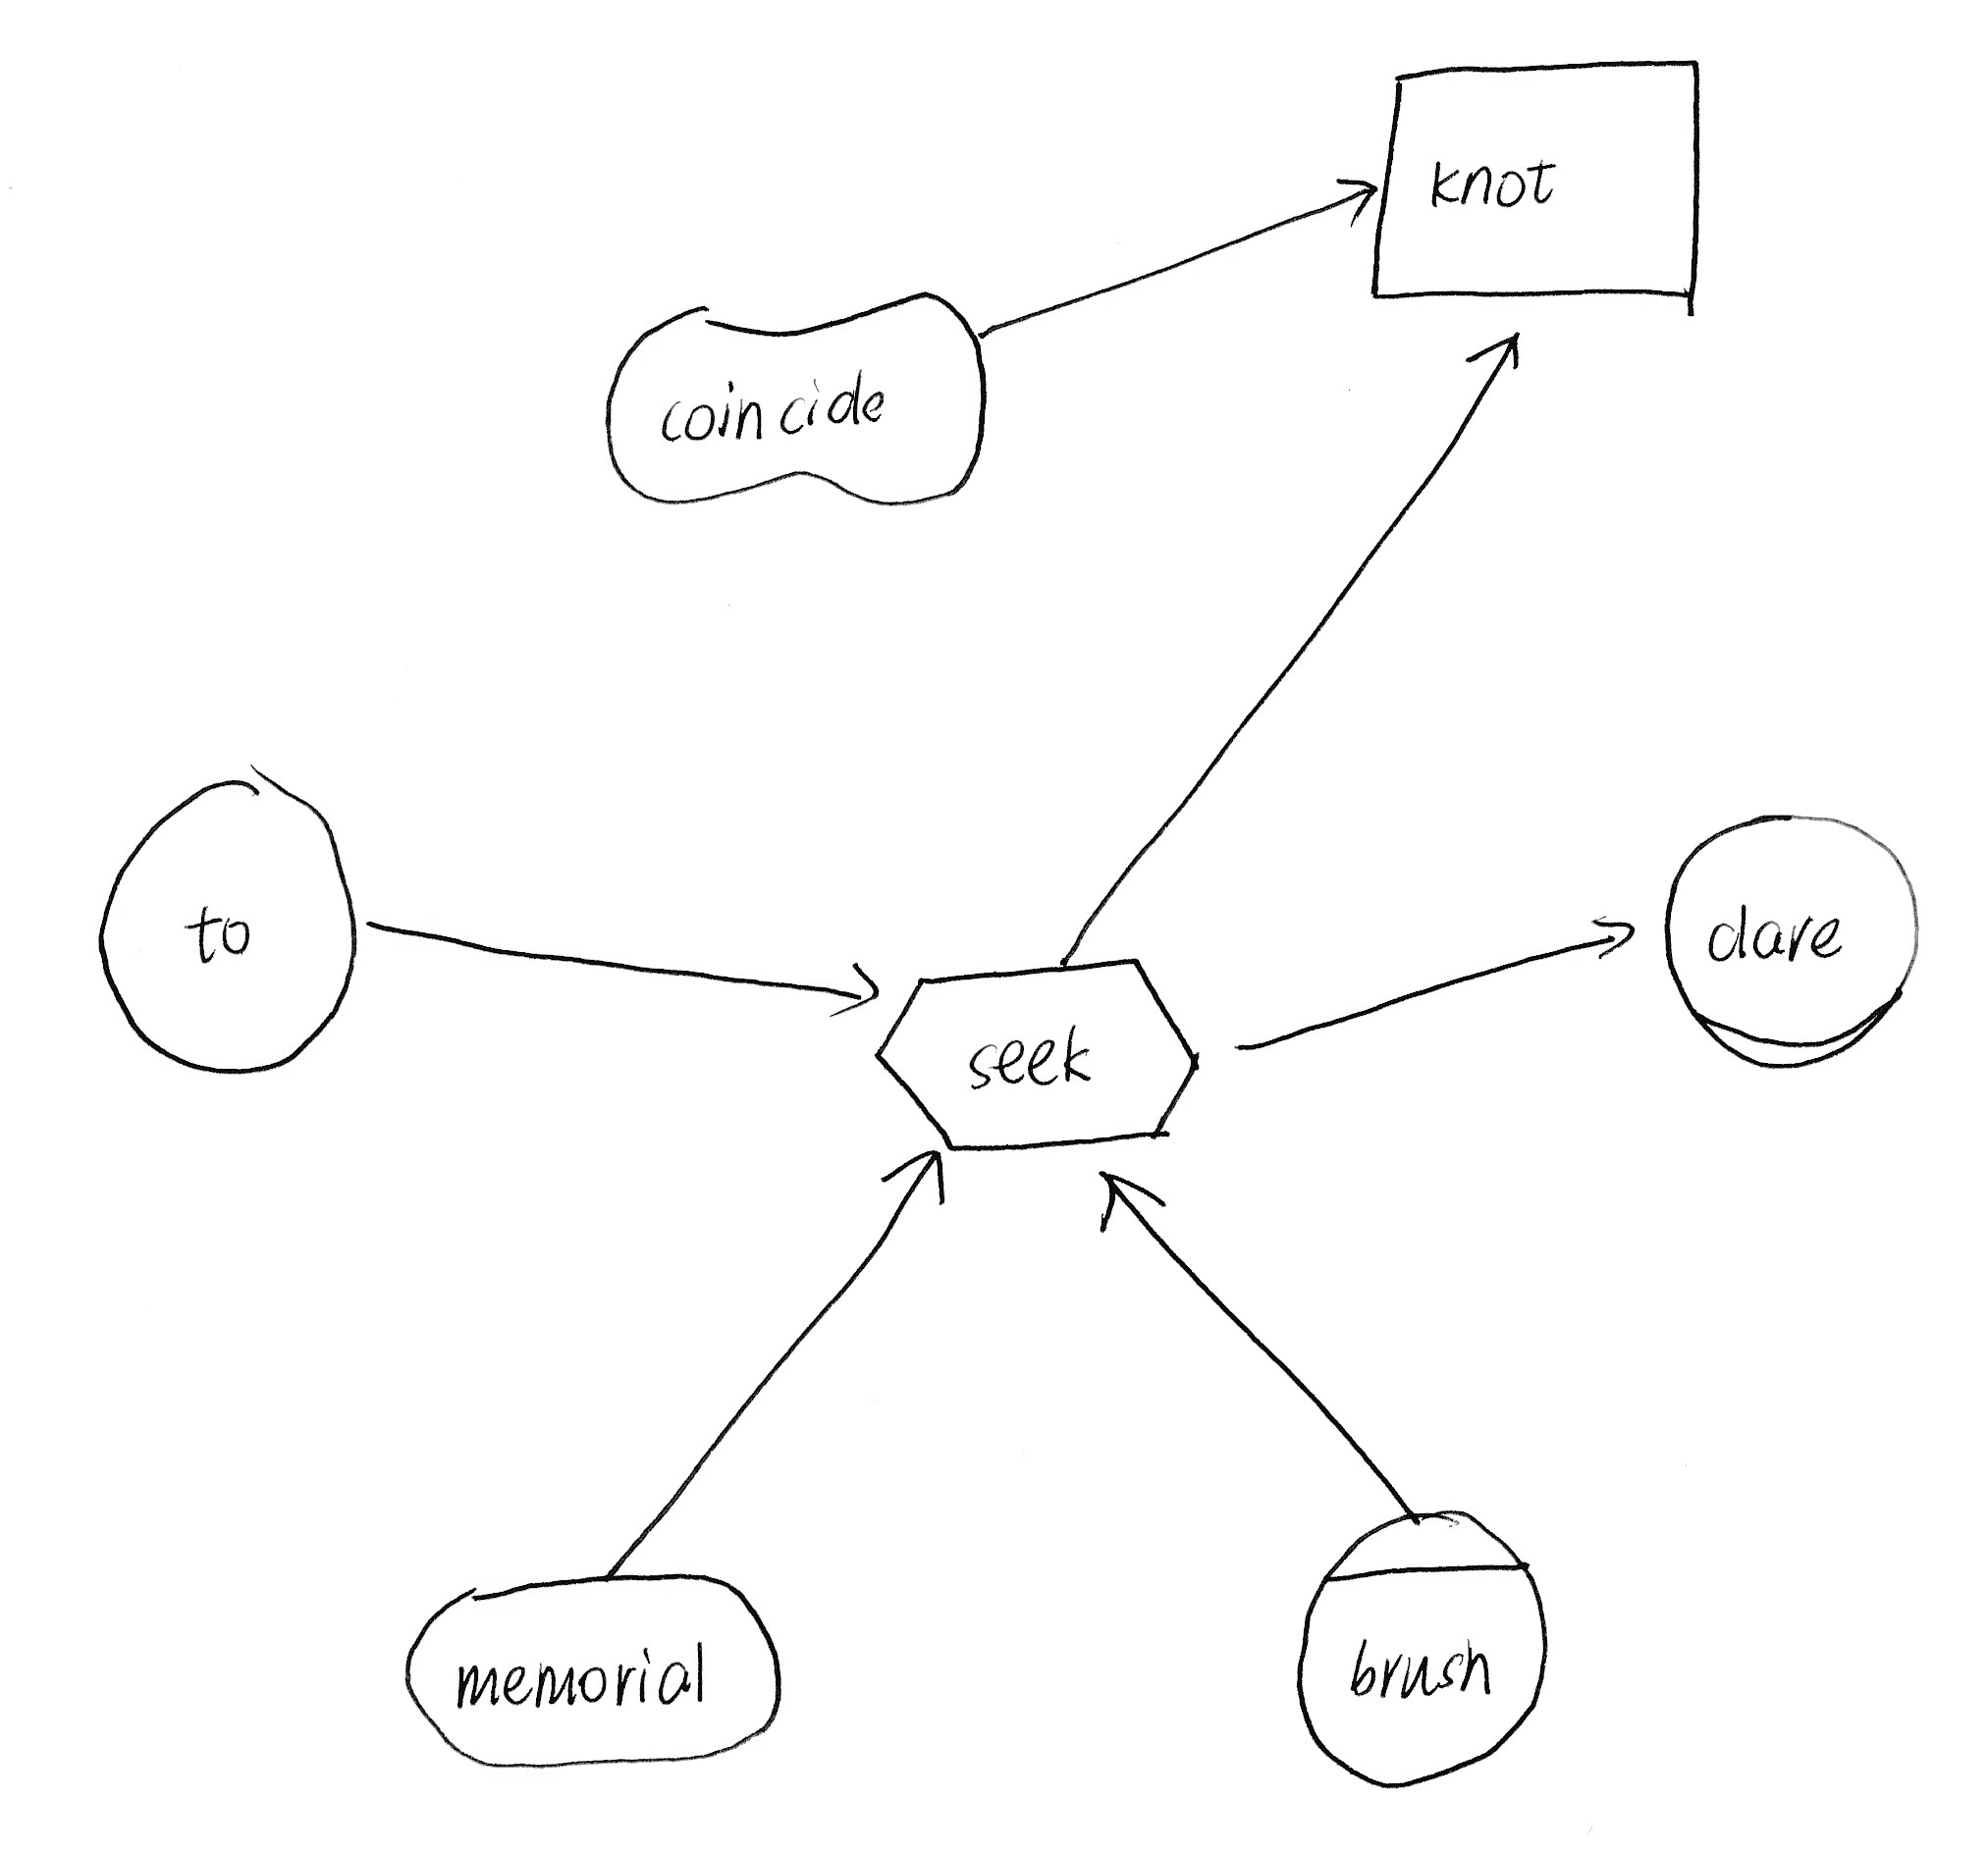actor: (78, 746, 383, 1093)
agent: (1288, 1493, 1561, 1798)
arrow: (1077, 1152, 1183, 1244), (871, 1138, 967, 1220), (819, 946, 899, 1028), (1460, 317, 1538, 401), (1584, 899, 1645, 979), (1328, 157, 1390, 232)
goal: (591, 277, 1014, 521), (389, 1553, 800, 1784)
resource: (1343, 42, 1728, 340)
role: (1648, 795, 1936, 1082)
task: (862, 943, 1214, 1176)
